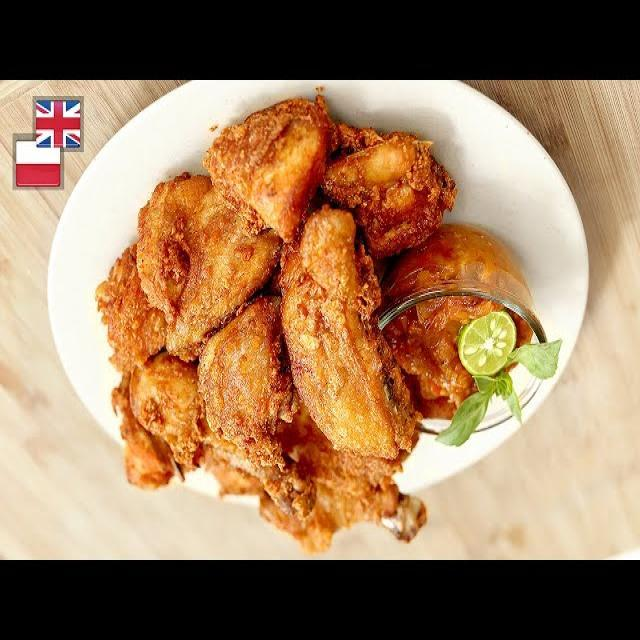ayam_goreng: (87, 121, 464, 562)
